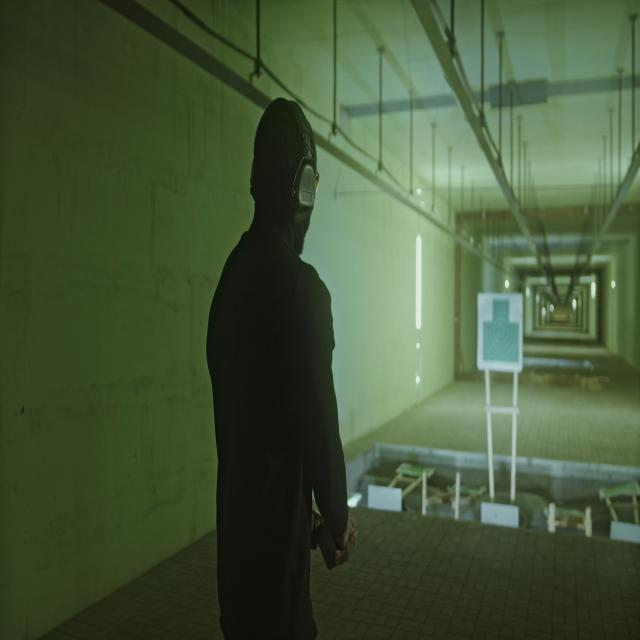Gun_Holder: (324, 503, 370, 577)
Person: (204, 91, 357, 640)
